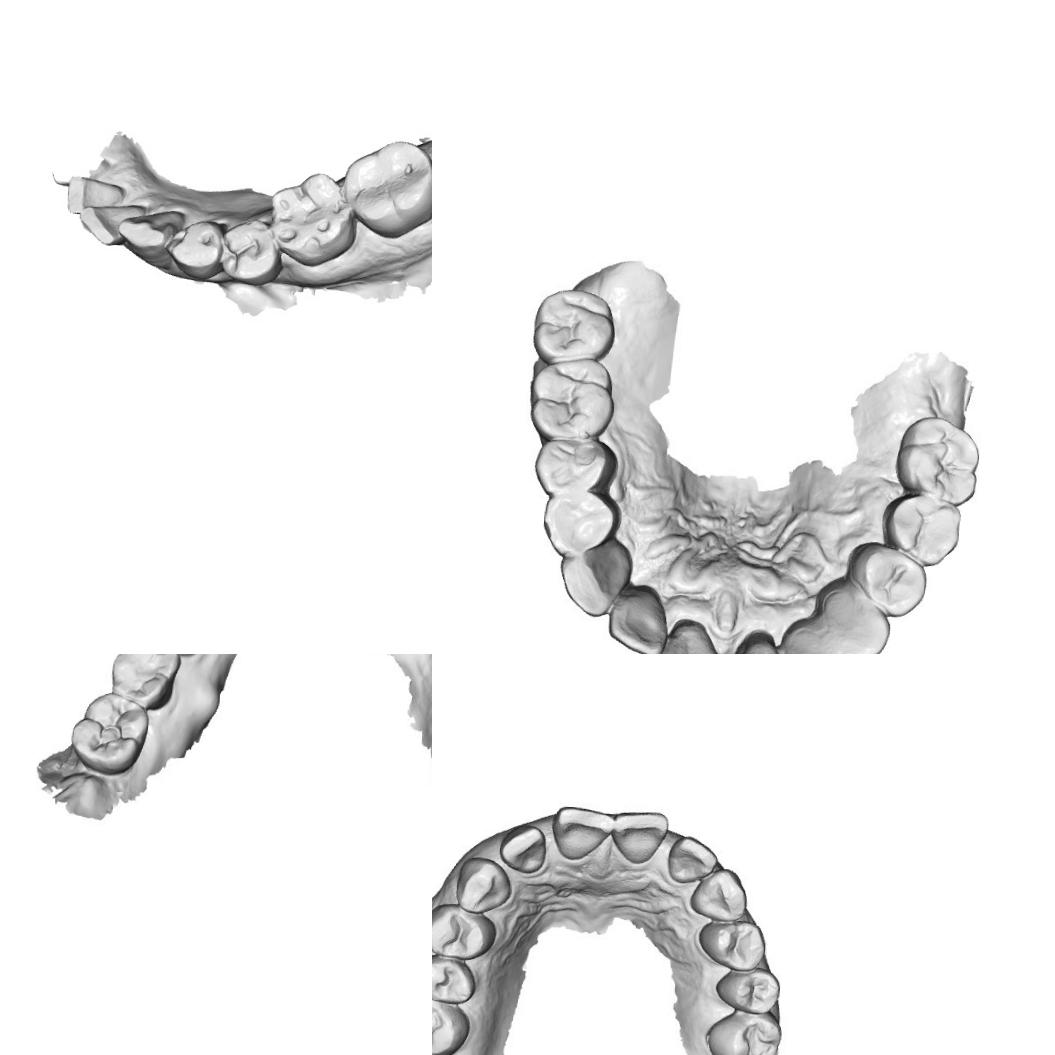canine: (558, 537, 629, 623), (822, 583, 893, 654), (448, 851, 514, 913), (115, 207, 180, 259), (692, 870, 745, 918)
incisor: (606, 583, 673, 654), (611, 809, 667, 868), (552, 807, 613, 858), (62, 174, 121, 218), (658, 618, 730, 654), (76, 202, 134, 246), (664, 832, 714, 881), (781, 620, 845, 654), (503, 825, 547, 872), (724, 634, 798, 654)
molar: (340, 135, 432, 239), (266, 168, 358, 270), (526, 358, 614, 438), (70, 694, 156, 774), (904, 418, 980, 504), (533, 287, 611, 356), (704, 1007, 783, 1055), (108, 654, 177, 704), (432, 987, 475, 1055)
premolar: (536, 486, 622, 558), (532, 430, 614, 498), (890, 492, 962, 562), (854, 544, 924, 612), (218, 216, 278, 282), (164, 216, 223, 282), (713, 962, 782, 1012), (432, 906, 492, 955), (706, 922, 761, 968), (432, 954, 477, 1007)
